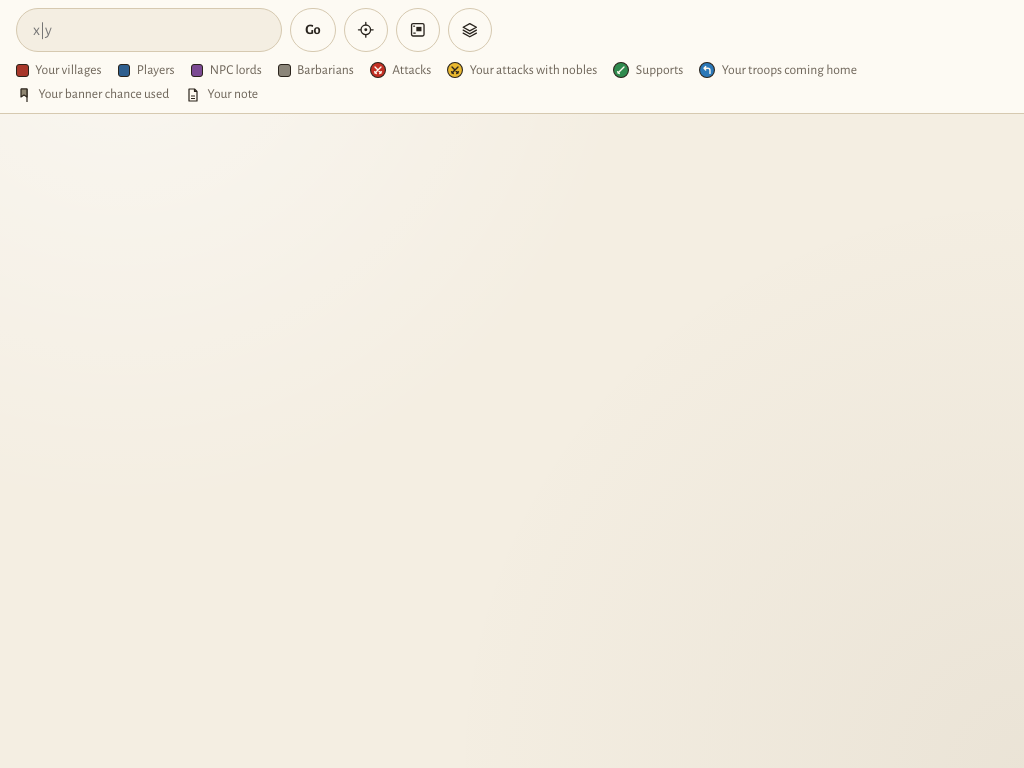
Scenario: MapPage › names a wrong field instead of jumping to it
Type "north" into the field named "Go to coordinates" at (149, 30), box [16,8,282,52]
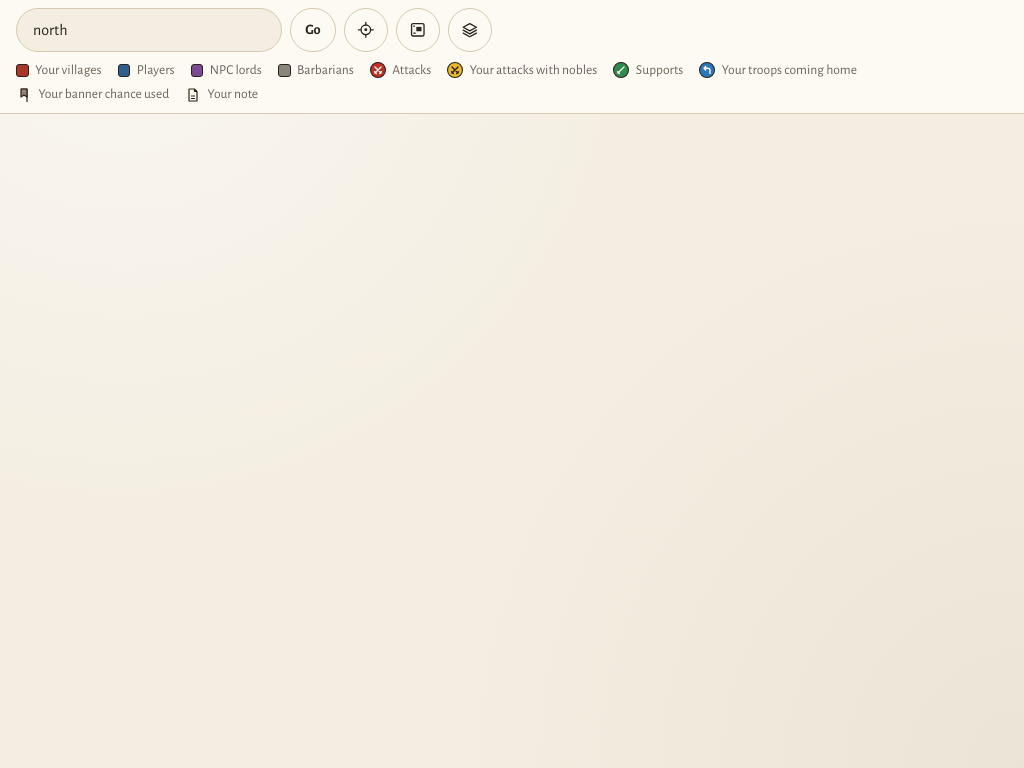
Click the button "Go" at (313, 30), box [290,8,336,52]
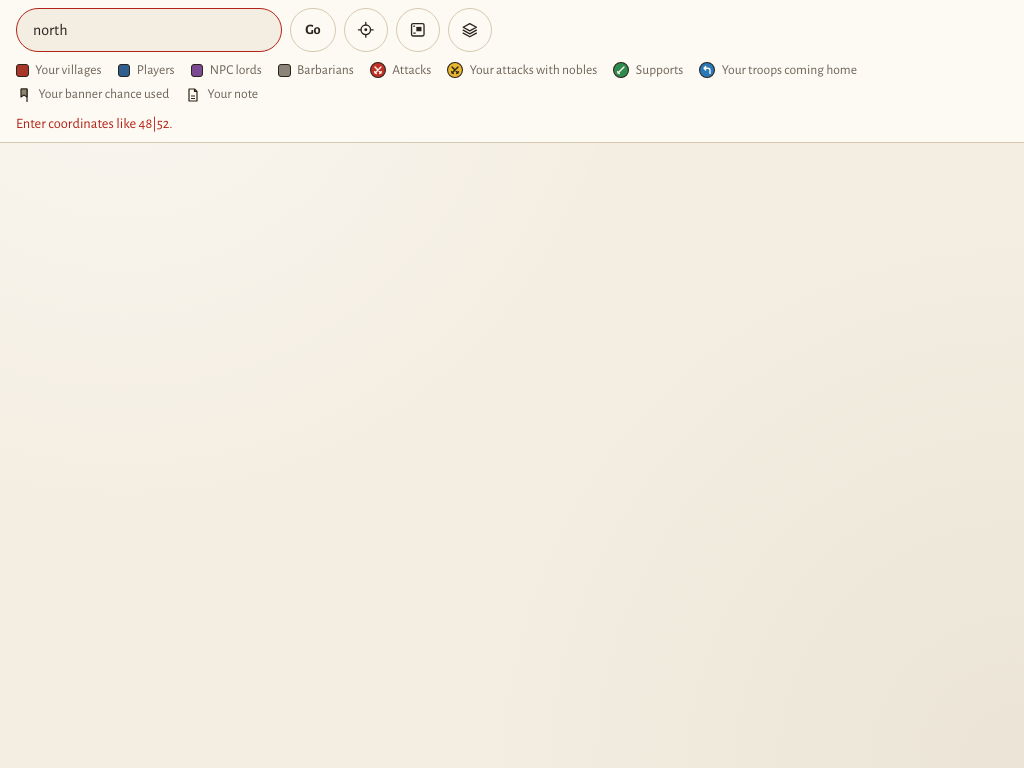
Expected: the text "Enter coordinates like 48|52." is shown, [16,116,173,131]
Replace the text in the field named "Go to coordinates" with "500|500" at (149, 30), box [16,8,282,52]
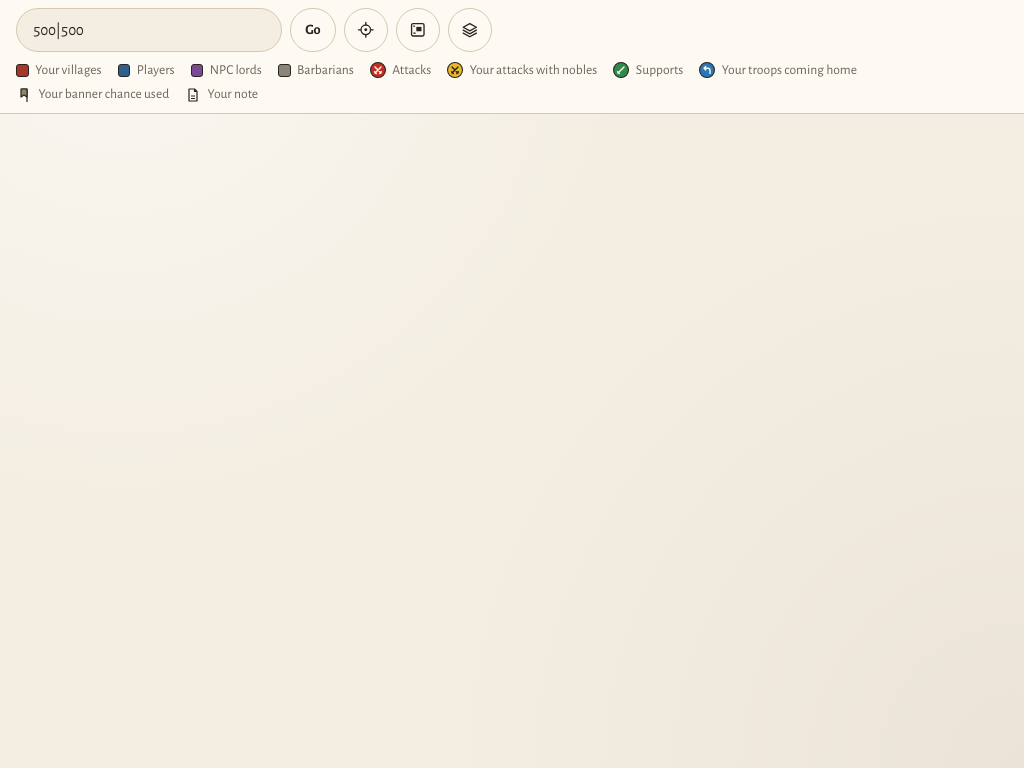
Click the button "Go" at (313, 30), box [290,8,336,52]
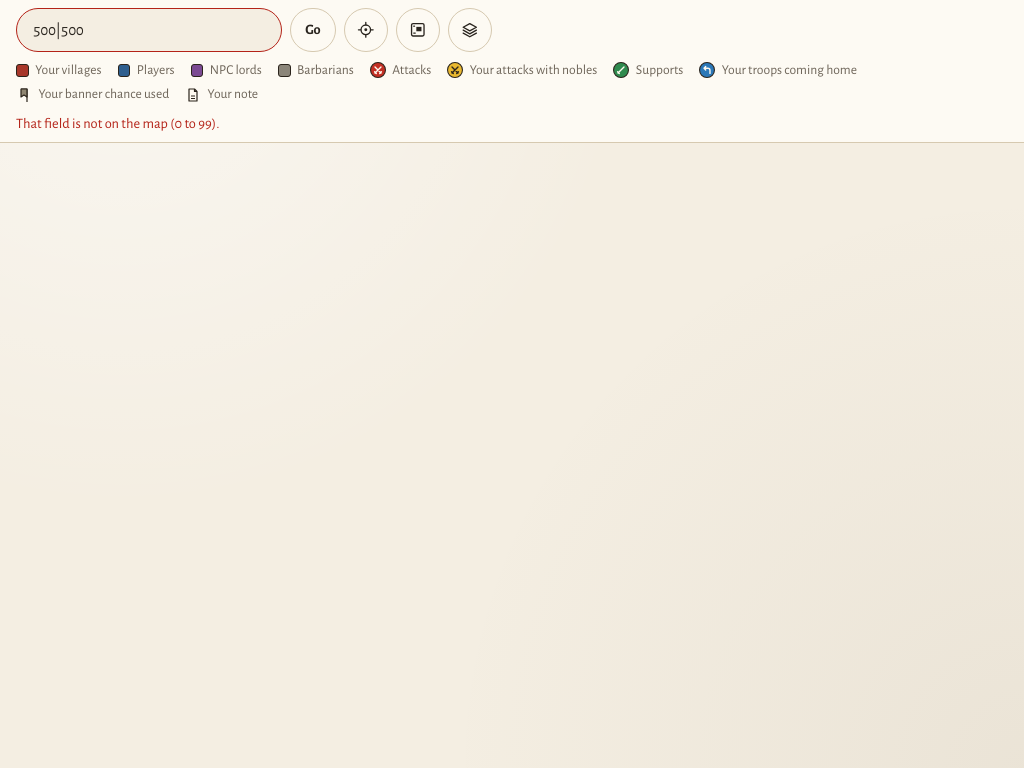
Expected: the text "That field is not on the map (0 to 99)." is shown, [16,116,220,131]
